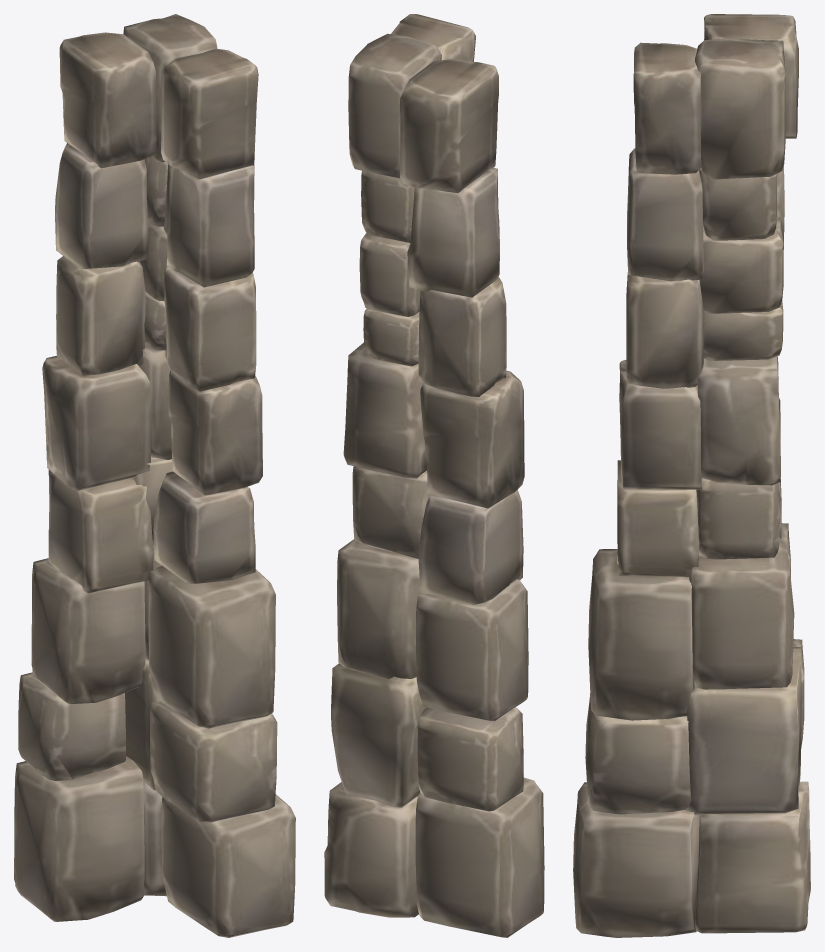
The model's file is wall-qm-cornerexteriorwidebrick.glb.
3 renders of one model, left to right at view 1: azimuth 30°, elevation 25°; view 2: azimuth 150°, elevation 25°; view 3: azimuth 270°, elevation 25°, orthographic. The views are drawn at different scales.
Parts seen in each view (by area): view 1: Cube_017_Retopology_018; view 2: Cube_017_Retopology_018; view 3: Cube_017_Retopology_018.
Boxes of the visible parts, x1=… form: Cube_017_Retopology_018: x1=14, y1=14, x2=295, y2=937; Cube_017_Retopology_018: x1=324, y1=14, x2=544, y2=937; Cube_017_Retopology_018: x1=573, y1=14, x2=810, y2=937.
Bounding box in the file's own units: 0.7123 × 3.04 × 0.7564.
Materials: 1 (1 with a texture image).
